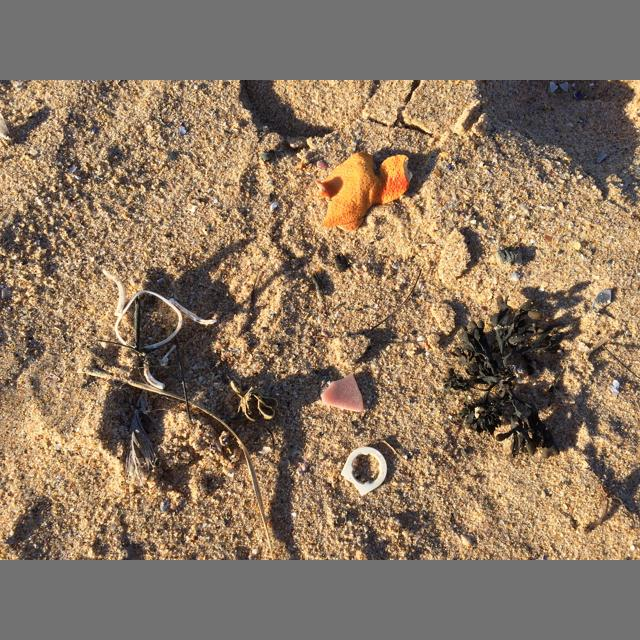litter: (103, 269, 217, 390), (316, 151, 409, 231), (341, 447, 387, 496), (321, 375, 363, 412)
